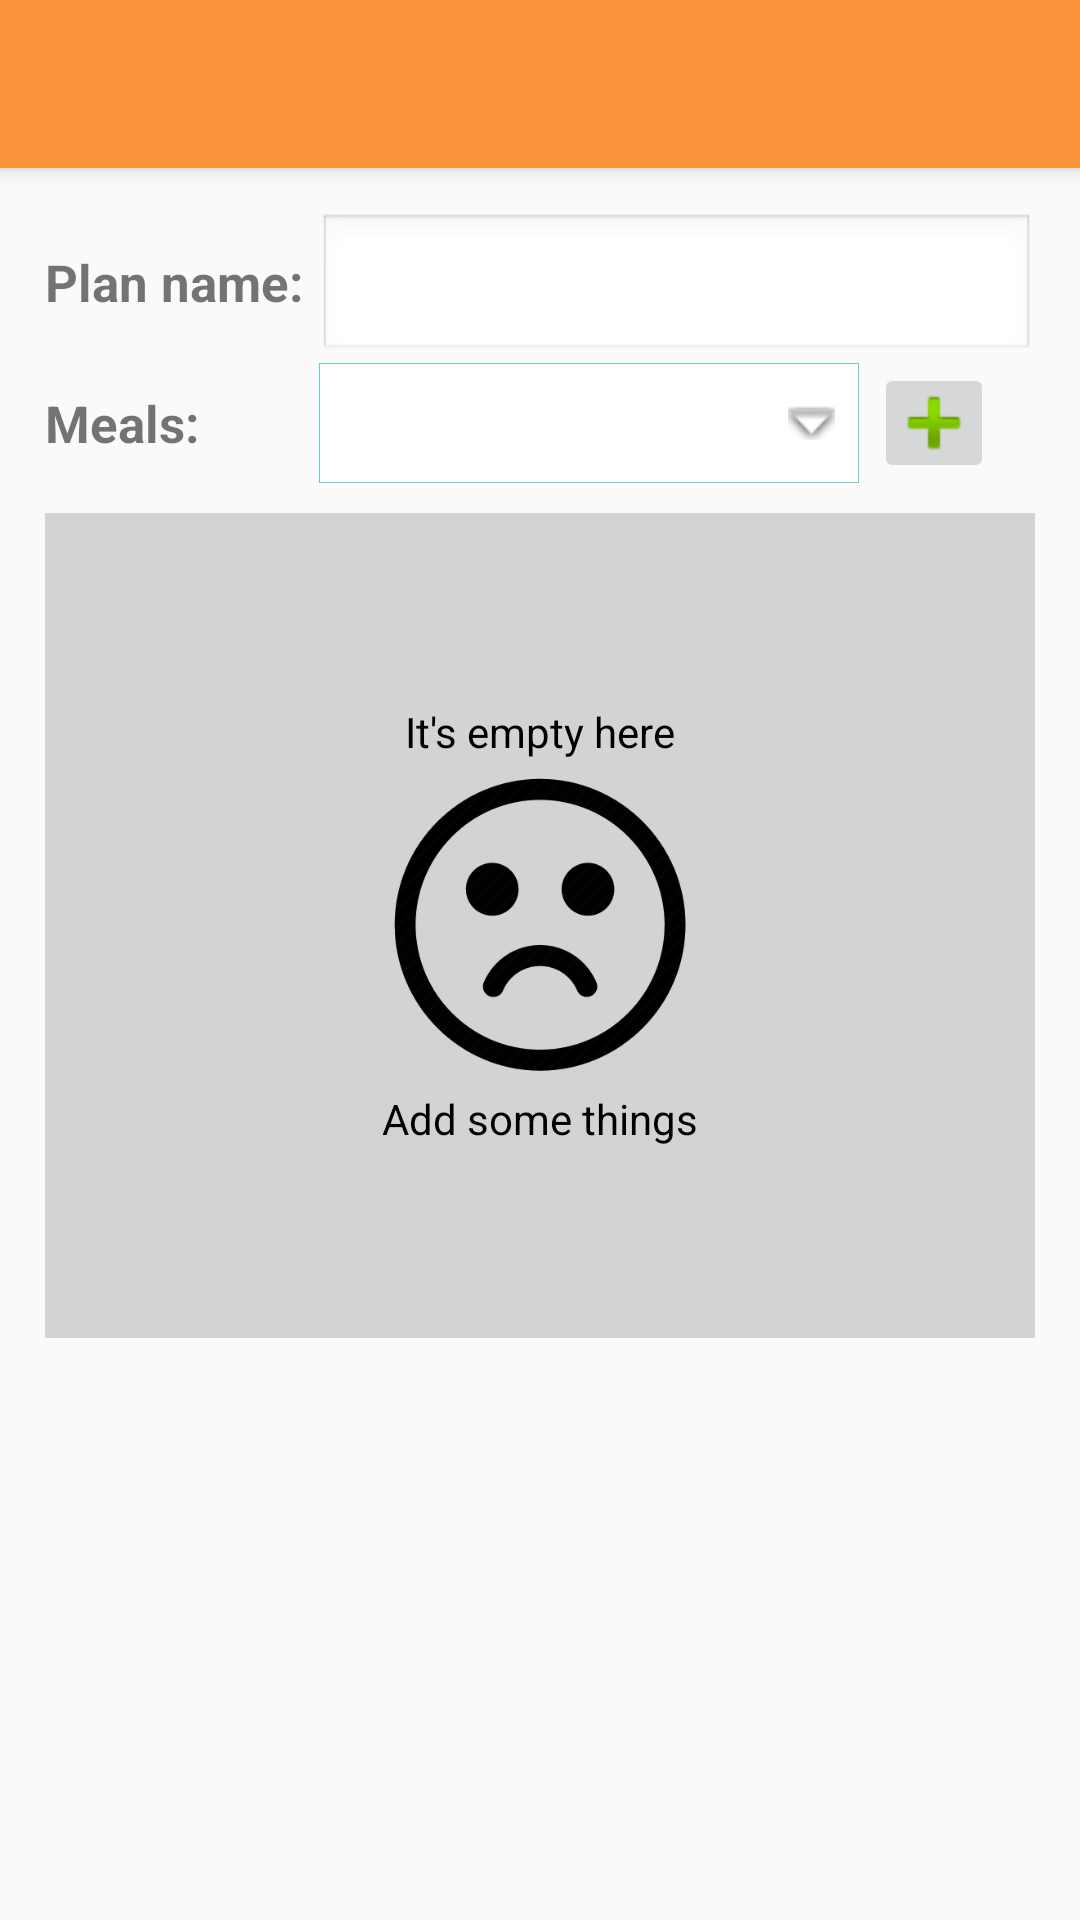

Icons on this 1080px×1920px Android screen, each with its box as (x1, y1, x2, y2):
add: (886, 381, 982, 465)
sad face: (394, 778, 686, 1071)
